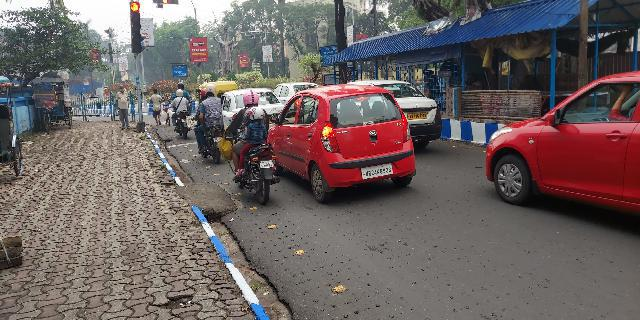Car: (483, 72, 633, 203), (289, 90, 423, 200), (363, 78, 443, 150)
Motorbike: (226, 99, 278, 207), (191, 83, 228, 167), (170, 87, 190, 135)
